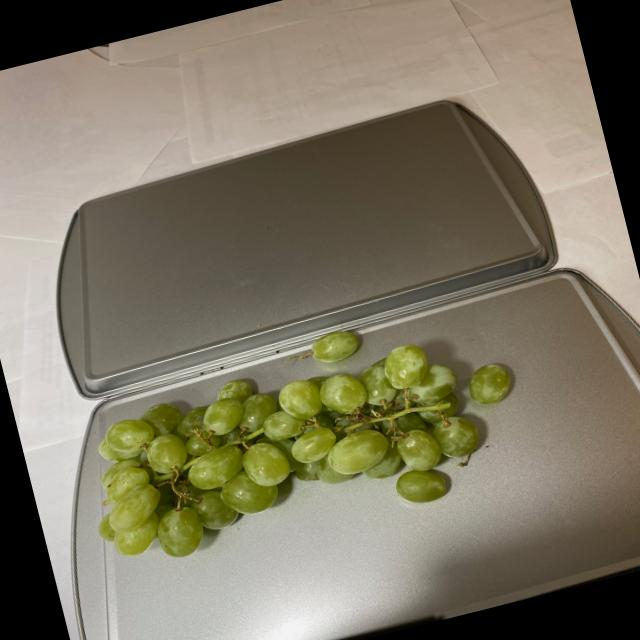grapes: (74, 296, 537, 578)
